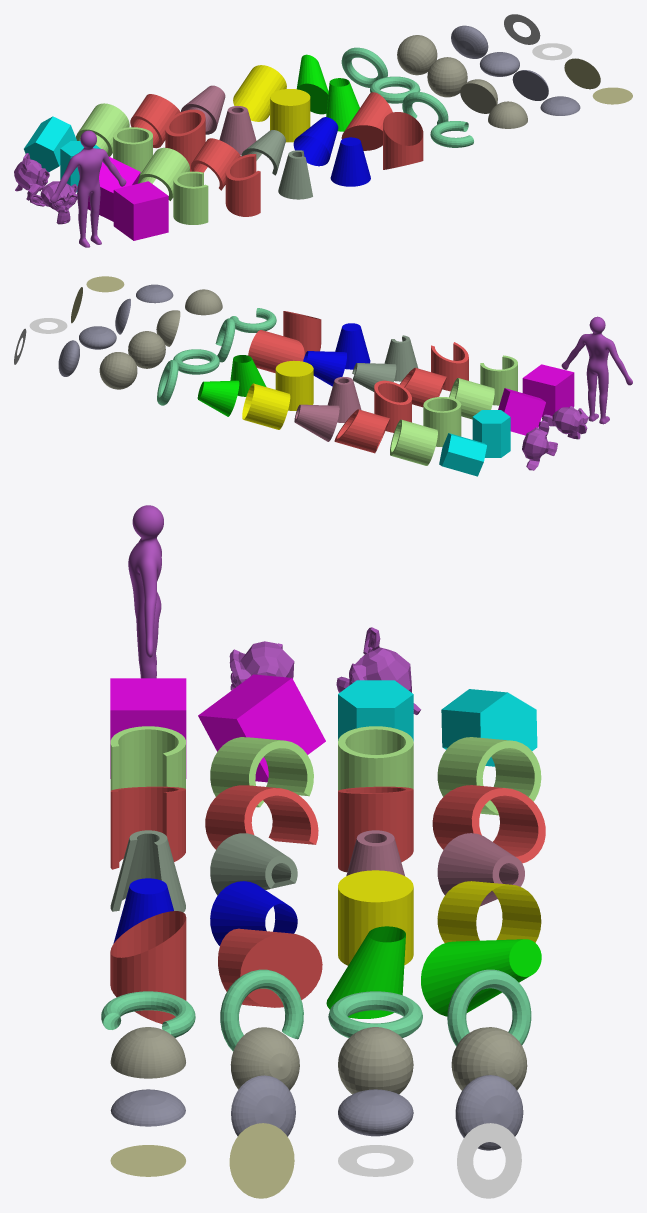
3 views of the same model, one above another, from view 1: azimuth 30°, elevation 25°; view 2: azimuth 150°, elevation 25°; view 3: azimuth 270°, elevation 25° (orthographic). The views are drawn at different scales.
Parts seen in each view (by area): view 1: Human, Cube_001, Sliced_Cyliner_001.001, Sliced_Cyliner_001, Cylinder_001, Cylinder_002, Extruded_Ring_Segment_001, Nut_002, Sliced_Cyliner_Segment_001, Sliced_Cyliner_002.001, Cone_001.001, Extruded_Ring_001 (+31 smaller); view 2: Human, Cube_001, Cylinder_002, Extruded_Ring_002, Sliced_Cyliner_002.001, Sliced_Cyliner_Segment_002, Nut_001, Cylinder_001, Nut_002, Cube_002, Sliced_Cyliner_Segment_001, Extruded_Ring_001 (+29 smaller); view 3: Cube_002, Sliced_Cyliner_001.001, Sliced_Cyliner_Segment_002, Sliced_Cyliner_002.001, Eccentric_Cone_002, Cylinder_001, Sliced_Cyliner_002, Extruded_Ring_002, Extruded_Ring_Segment_002, Cylinder_002, Sliced_Cyliner_Segment_001, Nut_002 (+31 smaller).
Boxes of the visible parts, <box> form: Human: <box>50,130,126,247</box>; Cube_001: <box>113,181,168,240</box>; Sliced_Cyliner_001.001: <box>383,112,423,169</box>; Sliced_Cyliner_001: <box>225,154,260,216</box>; Cylinder_001: <box>270,89,310,142</box>; Cylinder_002: <box>233,65,286,121</box>; Extruded_Ring_Segment_001: <box>173,171,208,224</box>; Nut_002: <box>24,116,76,171</box>; Sliced_Cyliner_Segment_001: <box>165,109,205,171</box>; Sliced_Cyliner_002.001: <box>341,92,392,150</box>; Cone_001.001: <box>330,137,370,186</box>; Extruded_Ring_001: <box>113,127,152,173</box>; Human: <box>561,316,632,424</box>; Cube_001: <box>522,364,574,417</box>; Cylinder_002: <box>242,383,290,429</box>; Extruded_Ring_002: <box>390,419,437,465</box>; Sliced_Cyliner_002.001: <box>248,330,304,373</box>; Sliced_Cyliner_Segment_002: <box>334,409,390,453</box>; Nut_001: <box>472,410,510,457</box>; Cylinder_001: <box>275,360,313,410</box>; Nut_002: <box>439,433,486,476</box>; Cube_002: <box>498,388,545,435</box>; Sliced_Cyliner_Segment_001: <box>374,380,411,432</box>; Extruded_Ring_001: <box>423,397,461,446</box>; Cube_002: <box>198,674,325,782</box>; Sliced_Cyliner_001.001: <box>110,911,186,1023</box>; Sliced_Cyliner_Segment_002: <box>432,785,545,863</box>; Sliced_Cyliner_002.001: <box>218,928,322,1007</box>; Eccentric_Cone_002: <box>421,939,541,1016</box>; Cylinder_001: <box>338,870,413,965</box>; Sliced_Cyliner_002: <box>205,785,318,849</box>; Extruded_Ring_002: <box>437,737,541,815</box>; Extruded_Ring_Segment_002: <box>210,737,313,807</box>; Cylinder_002: <box>437,881,541,942</box>; Sliced_Cyliner_Segment_001: <box>338,786,413,872</box>; Nut_002: <box>441,689,537,766</box>.
Size of the model in its own units: 1173 by 3317 by 659.
